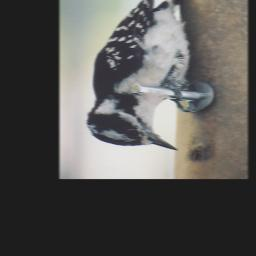Woodpecker: (86, 0, 197, 150)
